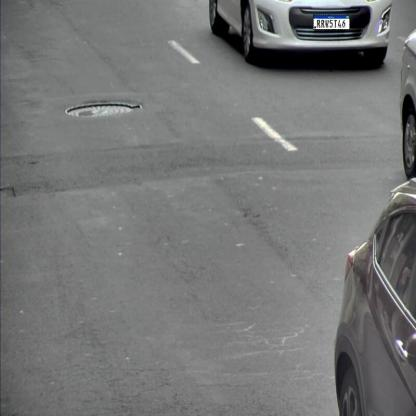PlacaM: (313, 14, 350, 30)
